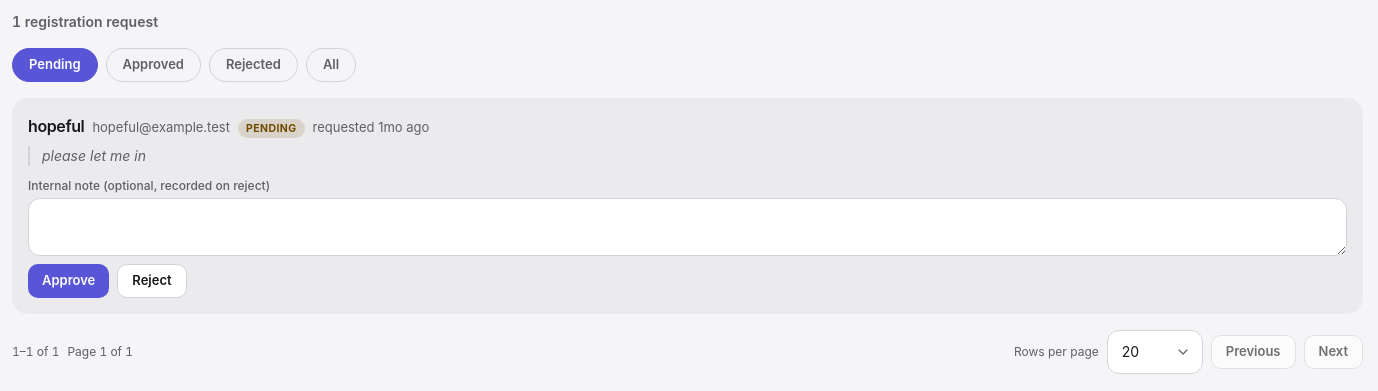
AdminRegistrationRequestsView in-place resolution › keeps a rejected request visible in place with its recorded note
Check: the text "hopeful@example.test" is shown, box [92,118,230,137]
Type "spam signup" into the text box named "Internal note for hopeful".
click(688, 227); type("spam signup")  # box [28,198,1347,256]
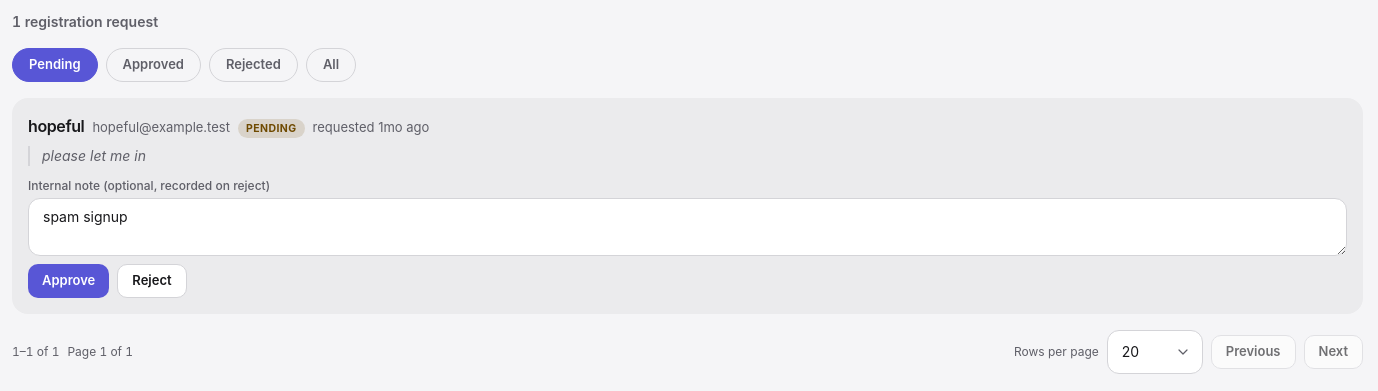
Click the button with aria-label "Reject hopeful".
click(152, 281)  # box [117,264,187,298]
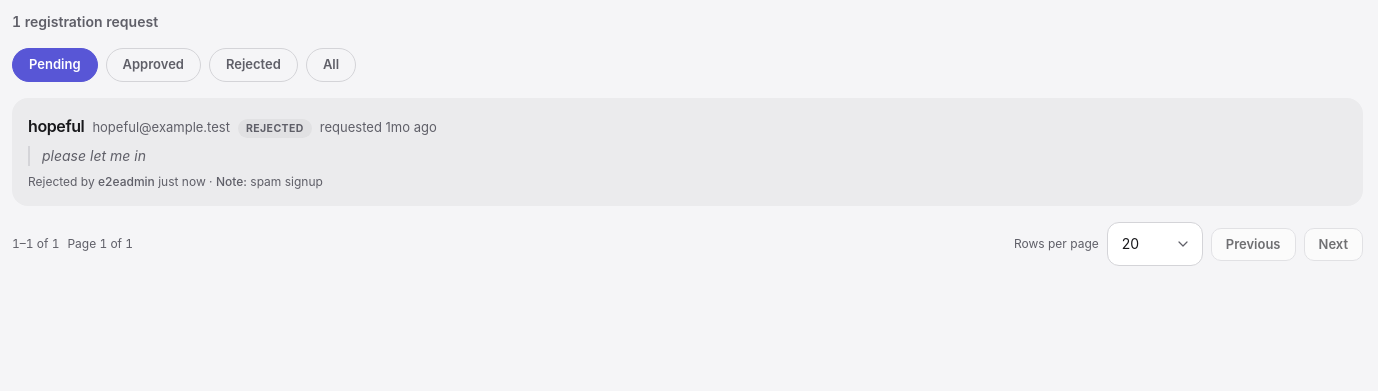
Check: the text "hopeful@example.test" is shown, box [92,118,230,137]
Check: the text "rejected" is shown, box [238,118,312,138]
Check: the text "Rejected by e2eadmin just now · Note: spam signup" is shown, box [28,174,323,189]
